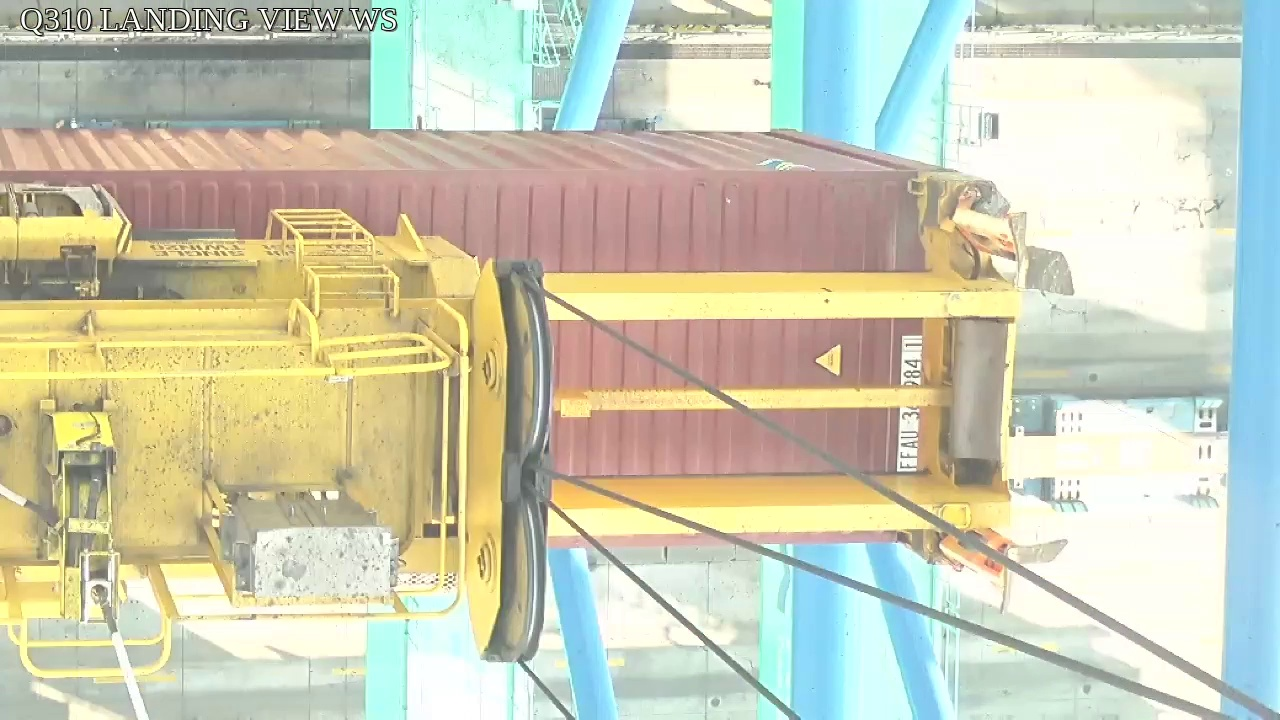right: (466, 256, 551, 664)
